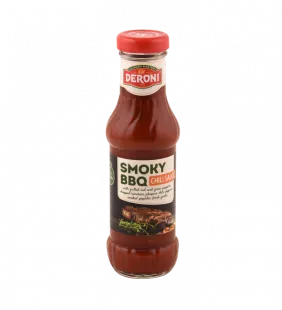DERONI: (100, 20, 188, 284)
